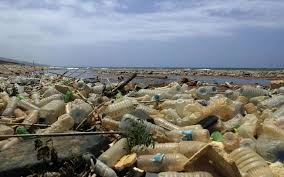garbage: (2, 75, 284, 175)
